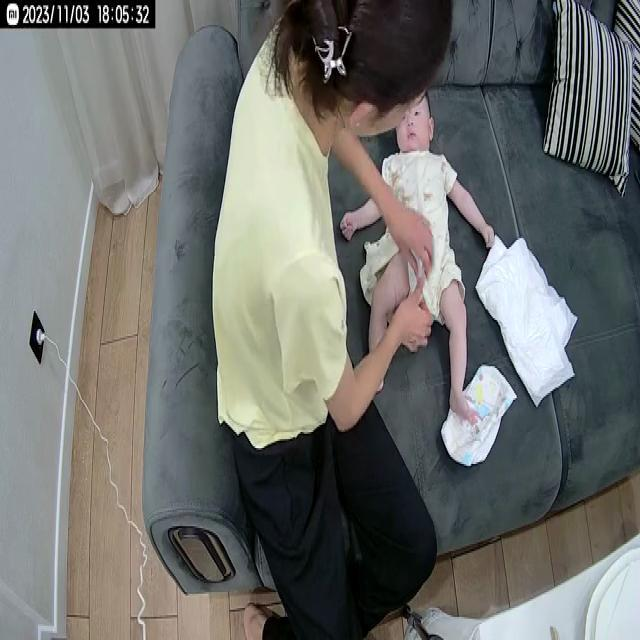baby: (340, 78, 495, 430)
